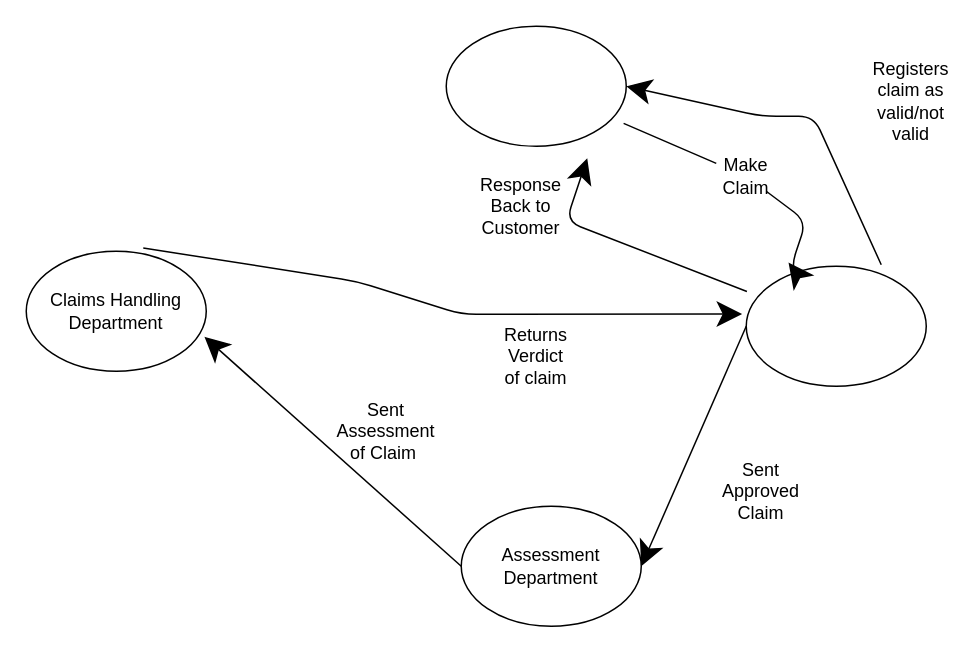
Some shapes in this 975 by 653 pixel diagram are drawn without their labels. Here are the shapes that lost their labels. From the top down, the box of each, then its label:
(445, 25, 626, 146): Customer
(745, 265, 926, 386): Customer Service Department
